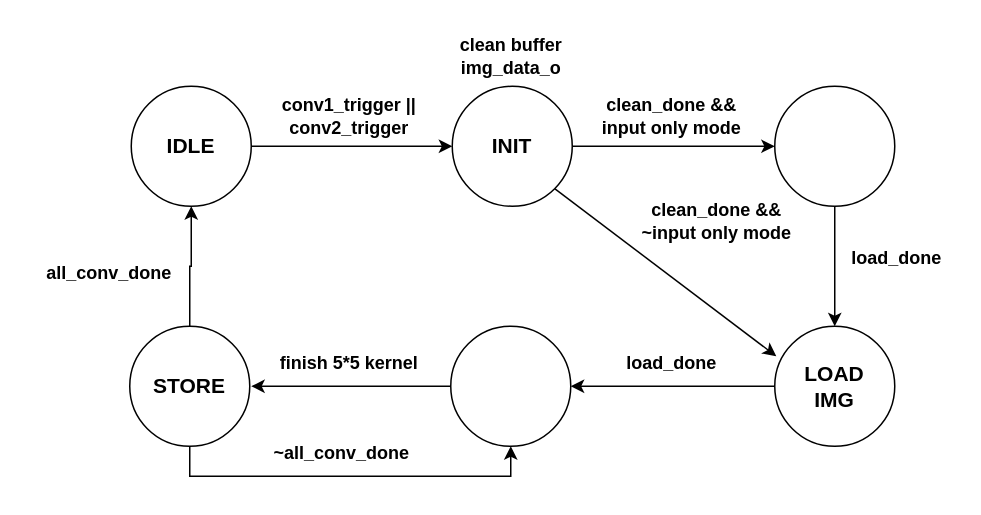
The diagram is 981 pixels wide and 515 high, and some of its shapes have lost their labels. The box of each missing label's shape, as (x1, y1, x2, y2) in pixels:
CNT: (449, 325, 571, 446)
LOAD WEIGHT: (773, 85, 895, 206)
